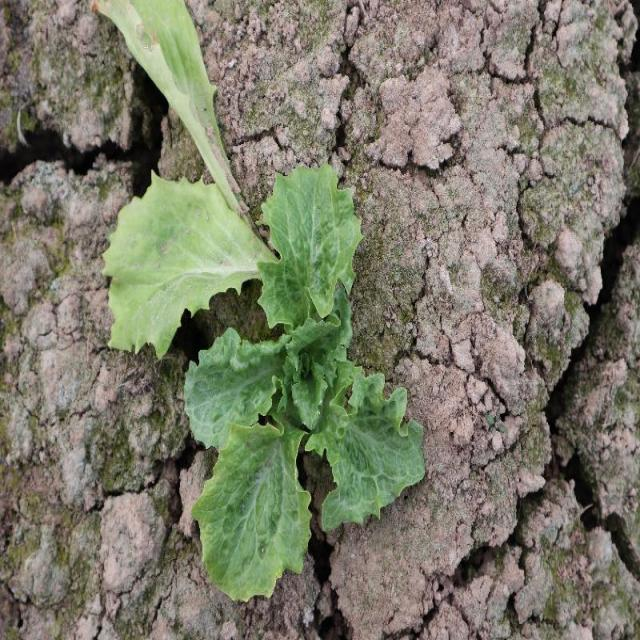crop: (100, 162, 431, 606)
